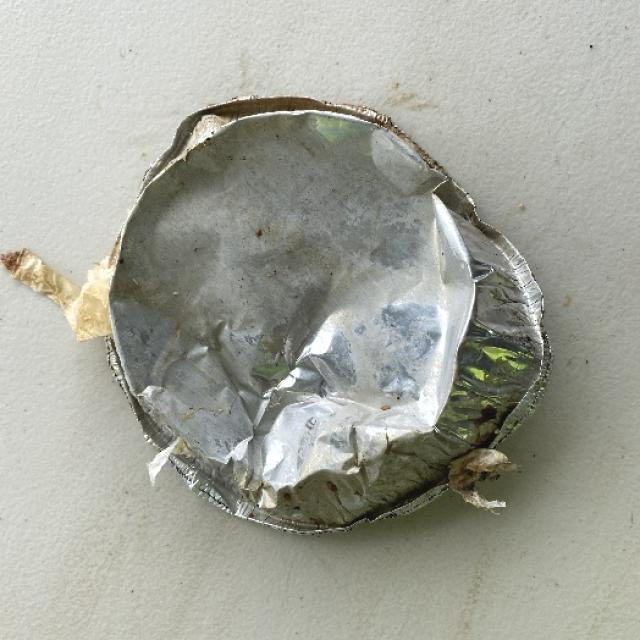inorganic: (100, 56, 520, 558)
